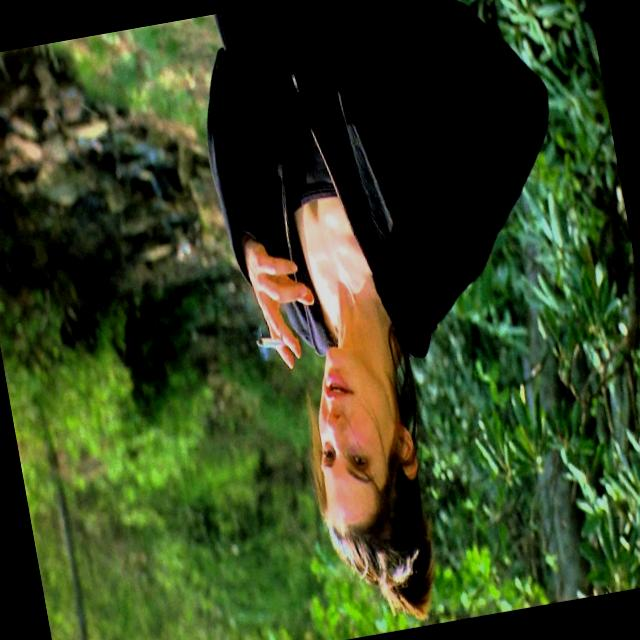cigarette: (254, 323, 284, 363)
